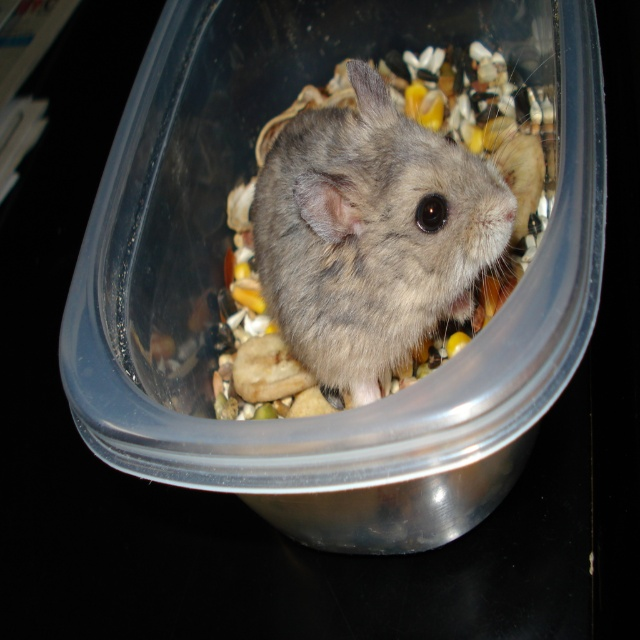Mouse: (244, 40, 556, 405)
